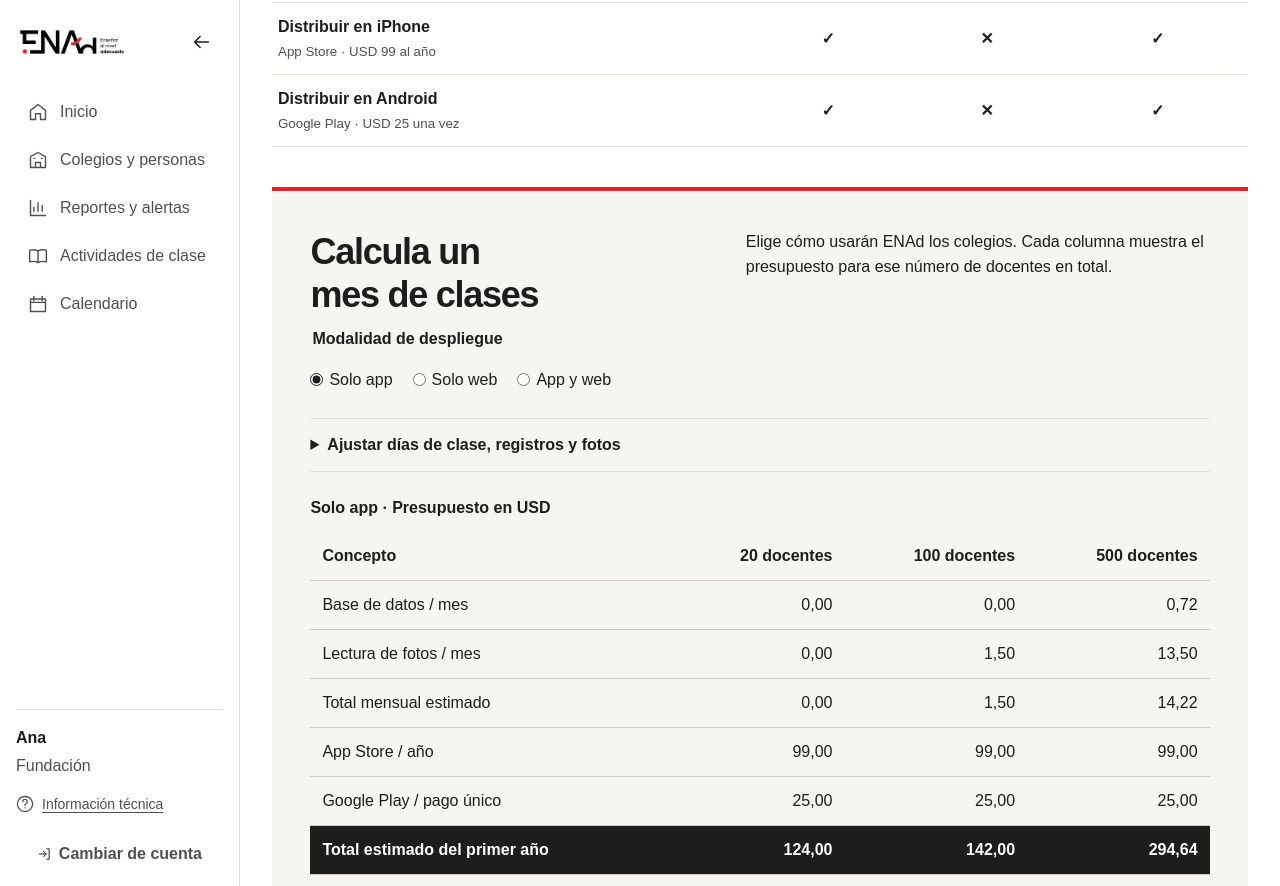
Scenario: Portada y guía pública › recalcula los tres tamaños y muestra los campos inválidos
(page scrolled)
Click the heading "Ajustar días de clase, registros y fotos" at (474, 444), box 327,436 -> 621,453
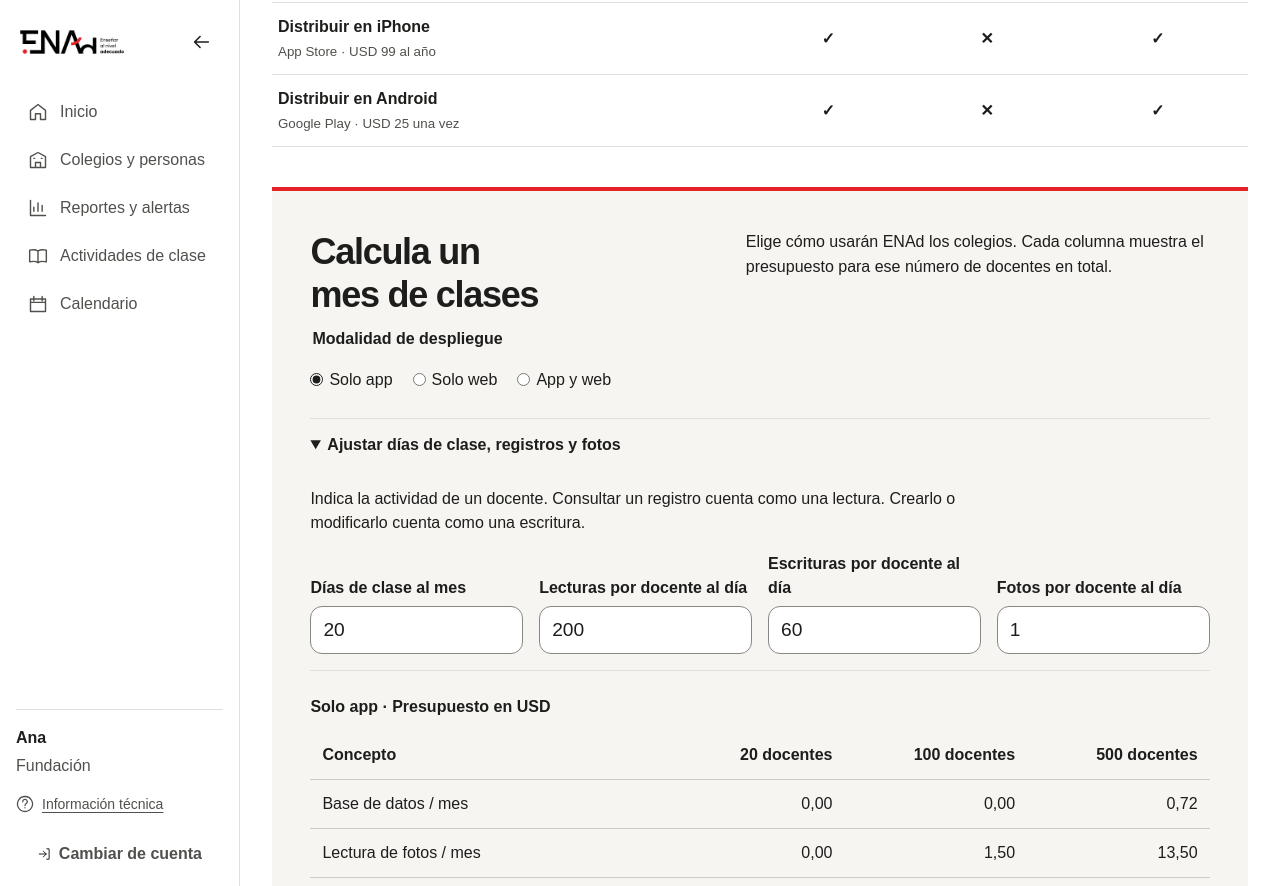
Replace the text in the number field labelled "Fotos por docente al día" with "0" at (1103, 630), box 997,606 -> 1210,654
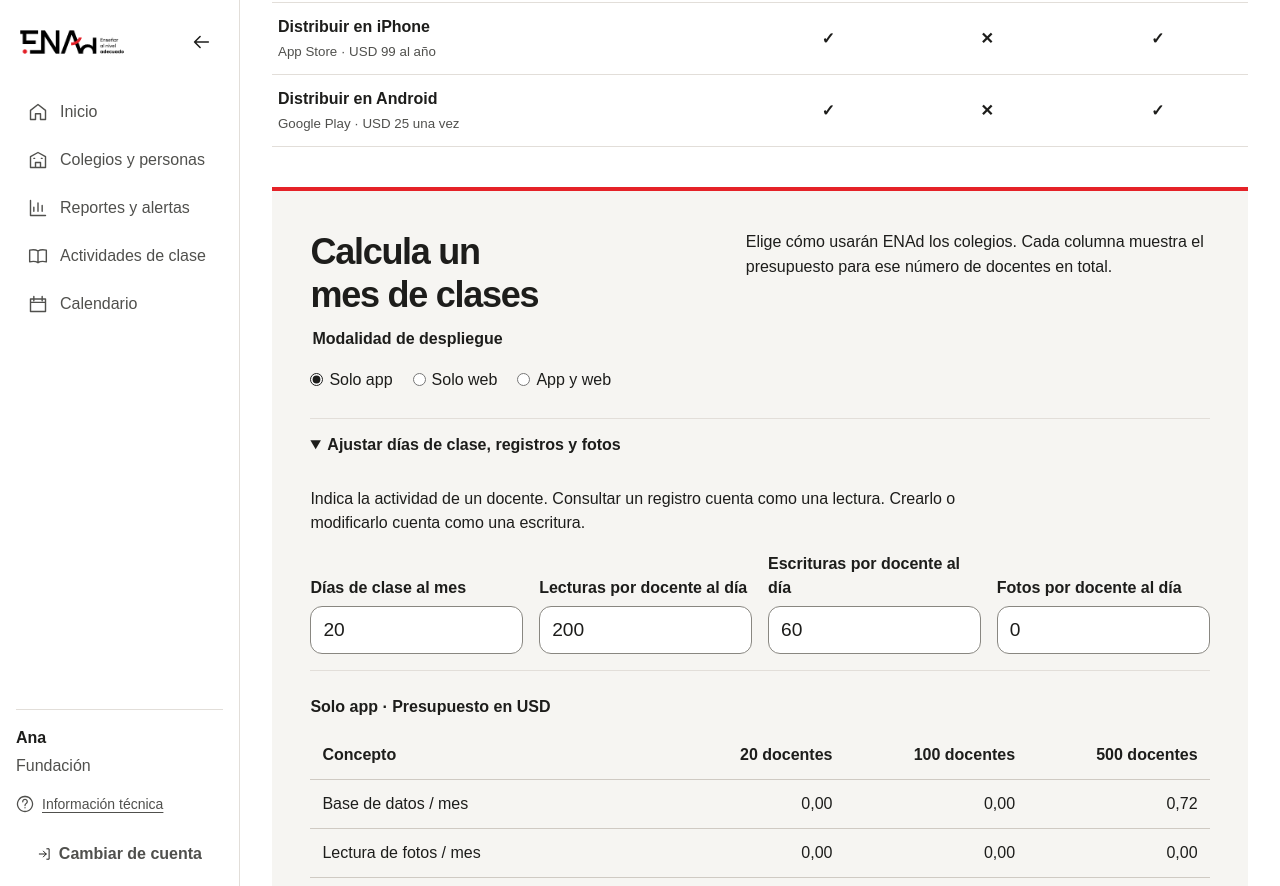
Check: the text "14,22" is not shown
Replace the text in the number field labelled "Fotos por docente al día" with "-1" at (1103, 630), box 997,606 -> 1210,654
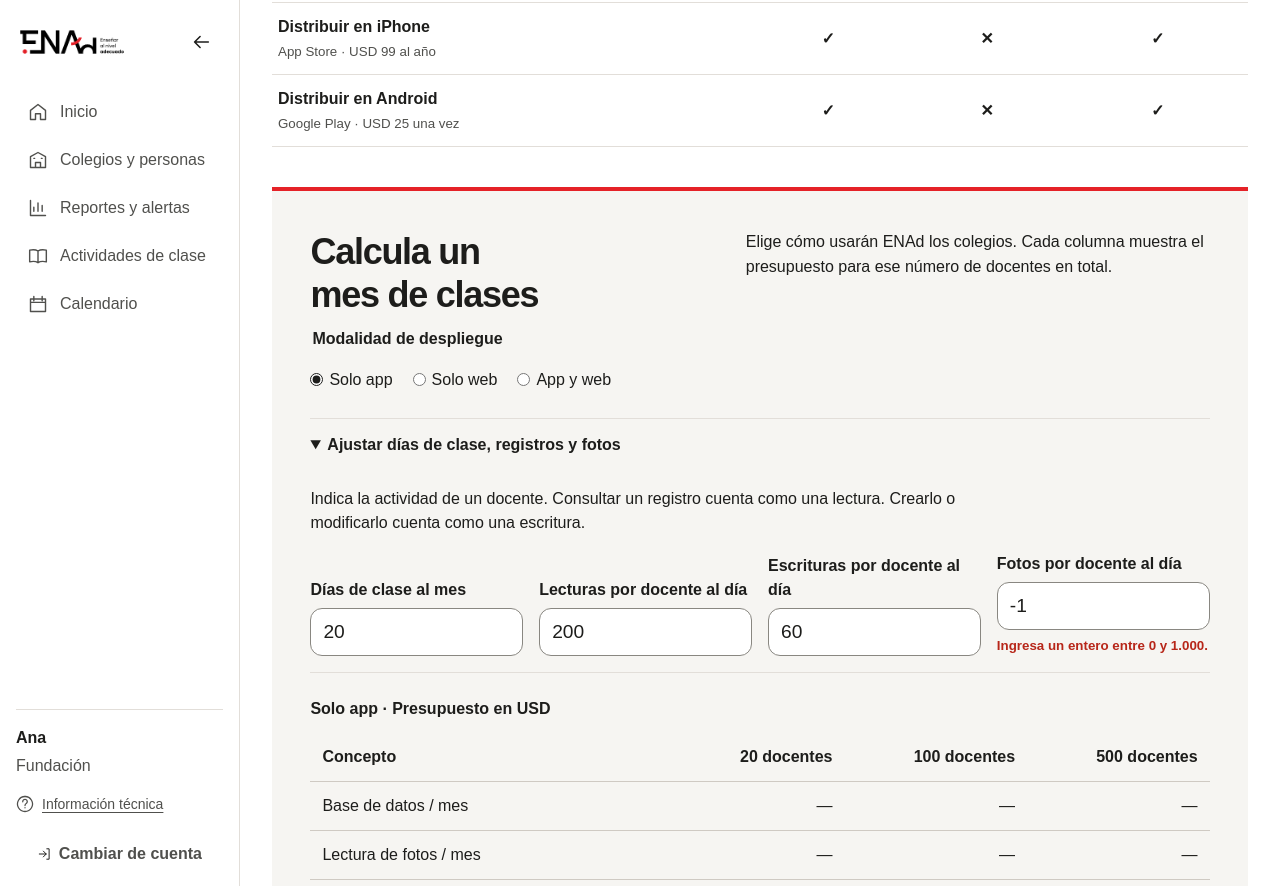
Check: the number field labelled "Fotos por docente al día" is marked as invalid
Replace the text in the number field labelled "Fotos por docente al día" with "1" at (1103, 606), box 997,582 -> 1210,630
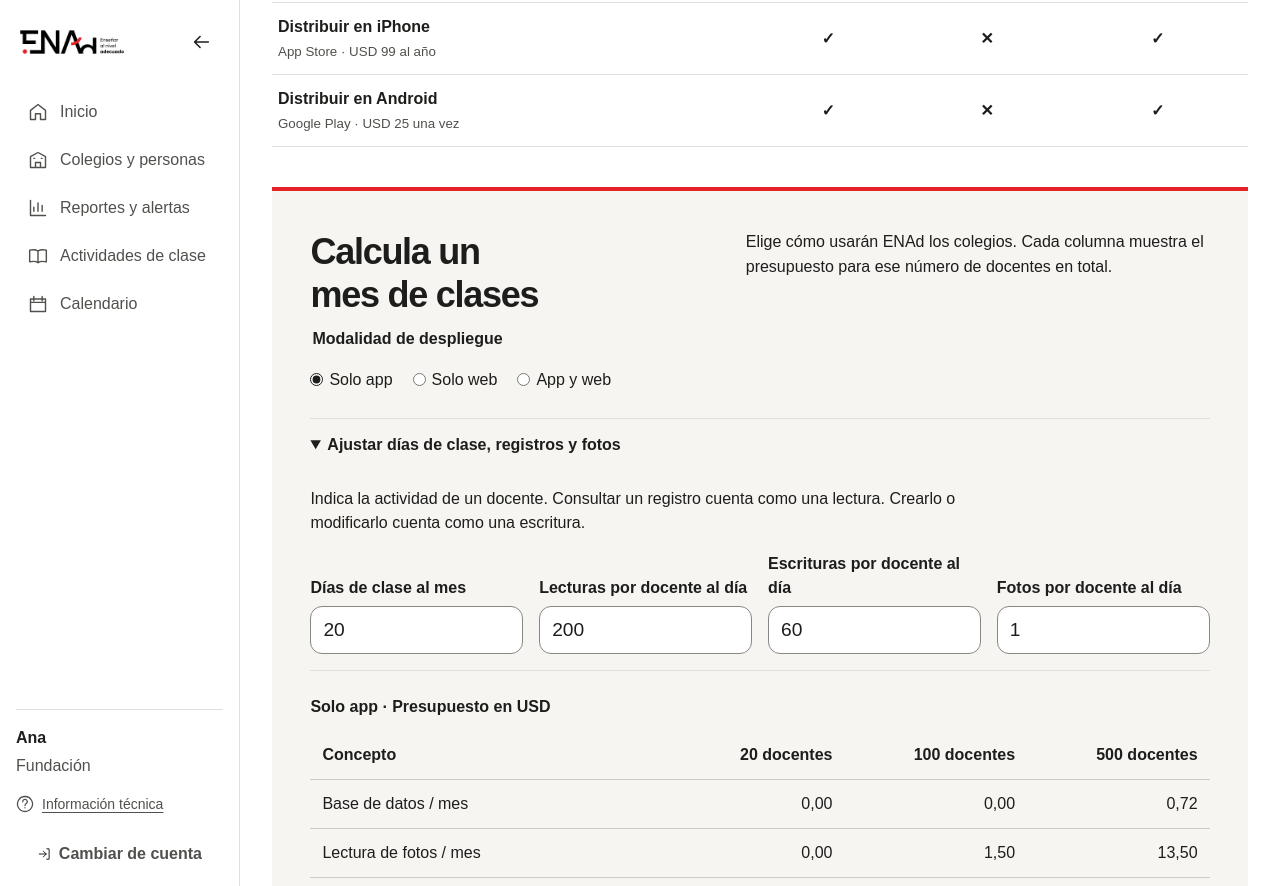
Click the radio button labelled "Solo web" at (419, 380), box 413,373 -> 426,386
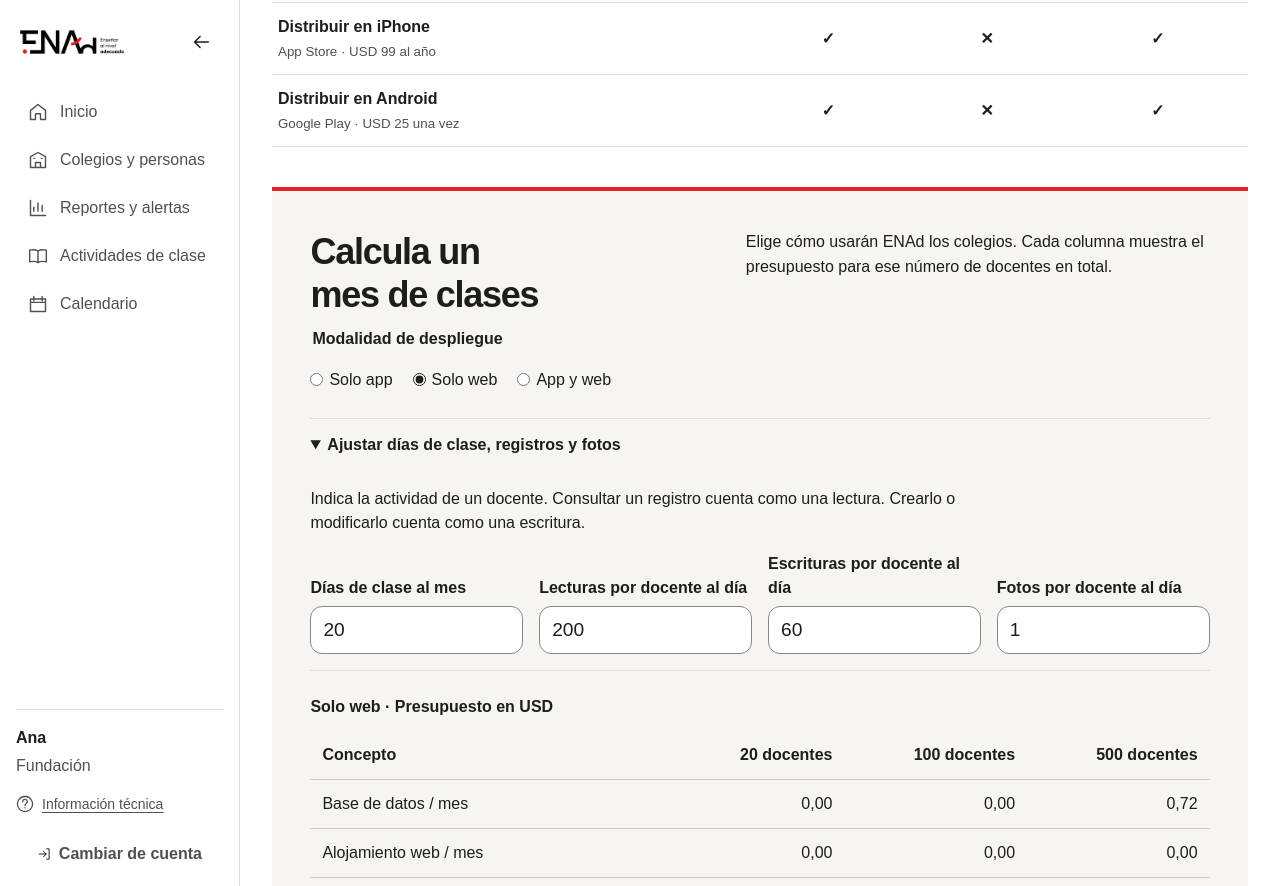
Check: the column heading "Lectura de fotos / mes" is gone
Click the radio button labelled "App y web" at (524, 380), box 517,373 -> 530,386
(page scrolled)
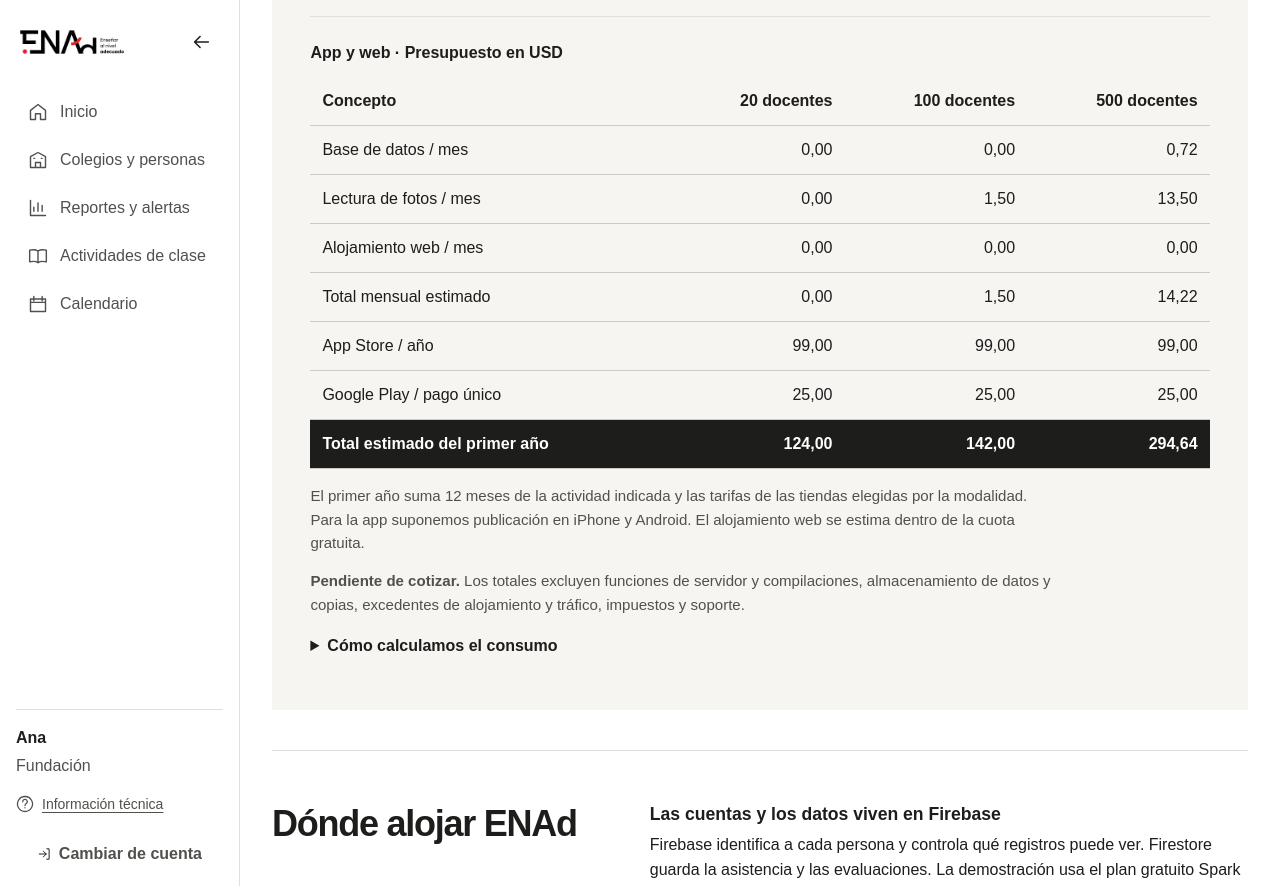
Check: the text "294,64" is shown, box 1027,420 -> 1210,469
